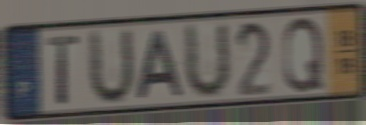2: (234, 18, 275, 99)
A: (134, 28, 187, 102)
Q: (281, 14, 325, 95)
T: (45, 33, 81, 107)
U: (87, 25, 137, 109), (183, 19, 233, 102)
